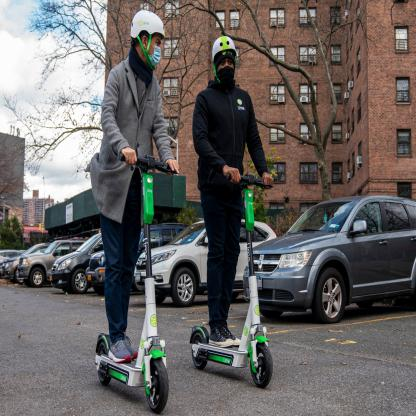scooter: (96, 151, 178, 415), (188, 169, 274, 391)
with helmet: (131, 10, 167, 71), (210, 34, 238, 88)
